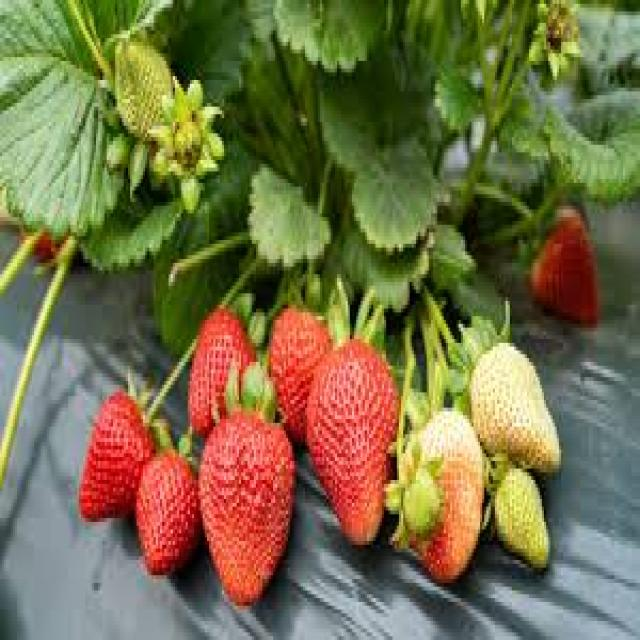Strawberries: (201, 420, 294, 606), (308, 360, 396, 552), (407, 417, 486, 577), (474, 343, 561, 482), (76, 400, 138, 520), (133, 460, 196, 575), (490, 477, 560, 577), (533, 220, 598, 326), (264, 305, 321, 425), (184, 317, 247, 423)
